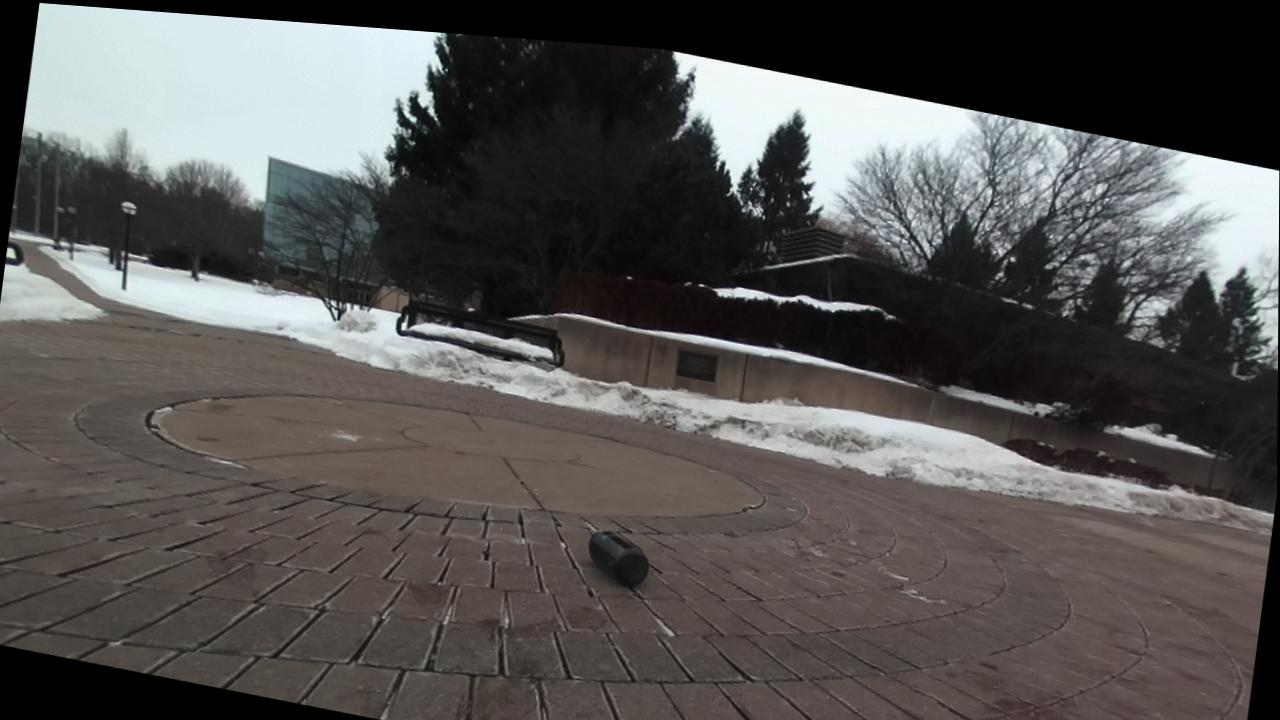bottle: (588, 531, 648, 586)
